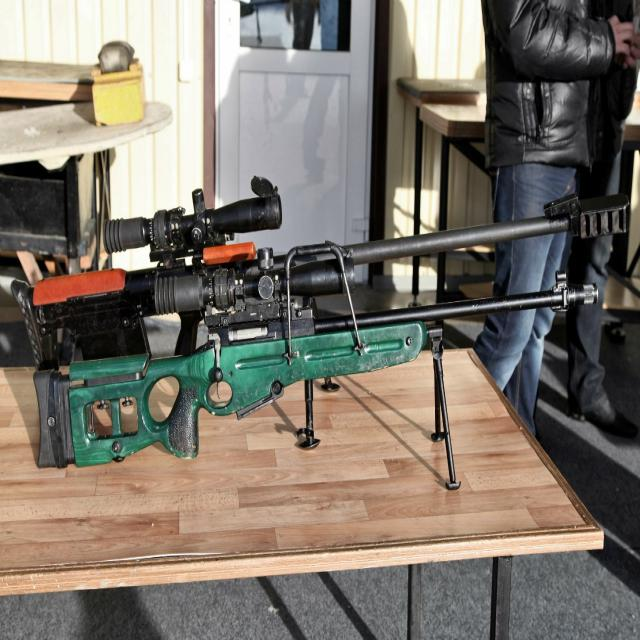firearm: (31, 255, 600, 496), (19, 172, 629, 374)
